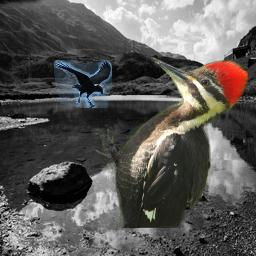Crow: (54, 60, 112, 108)
Woodpecker: (91, 57, 248, 228)
